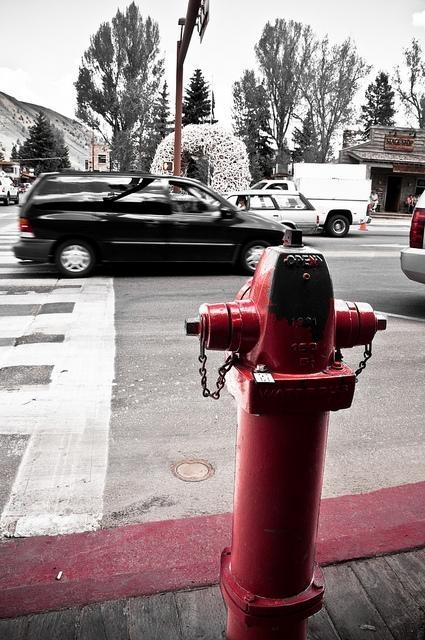car: (8, 170, 301, 279), (226, 190, 322, 232), (399, 190, 425, 284), (0, 178, 19, 206), (23, 183, 30, 188)
truck: (13, 168, 306, 274), (248, 180, 372, 237)
